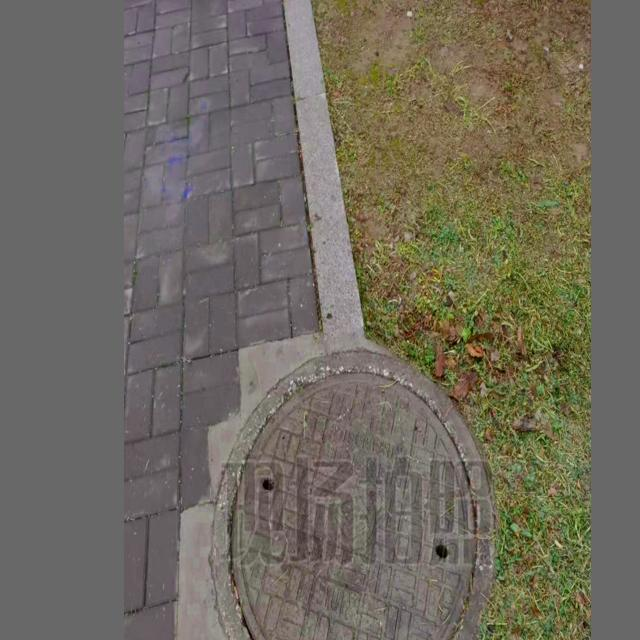good: (211, 351, 491, 640)
